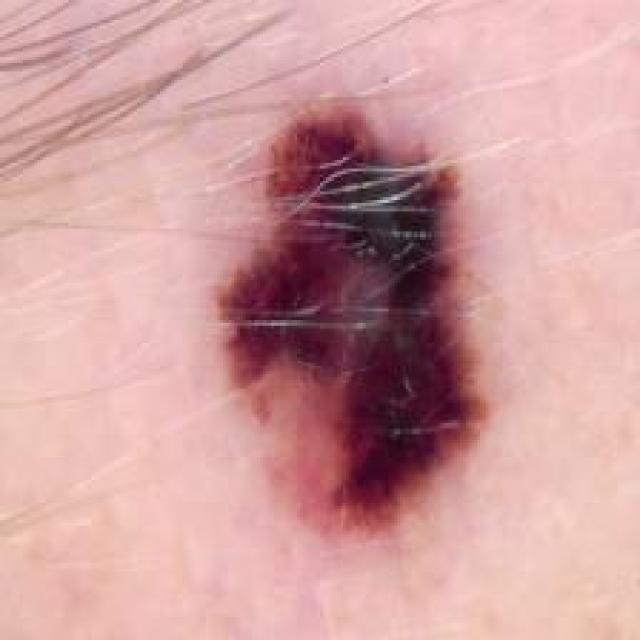Cancer: (208, 91, 492, 540)
